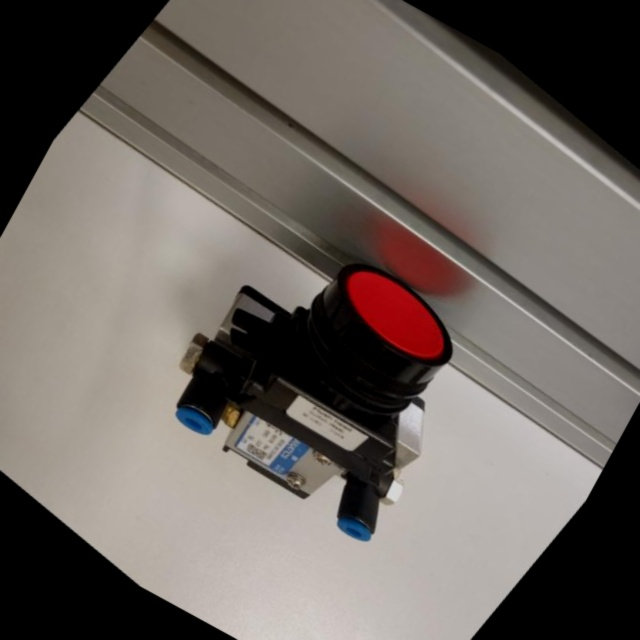push button: (121, 176, 537, 587)
